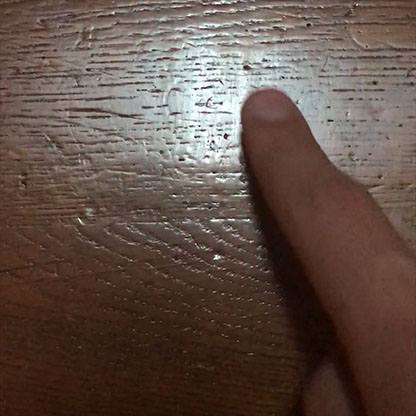fingertip: (228, 75, 314, 148)
